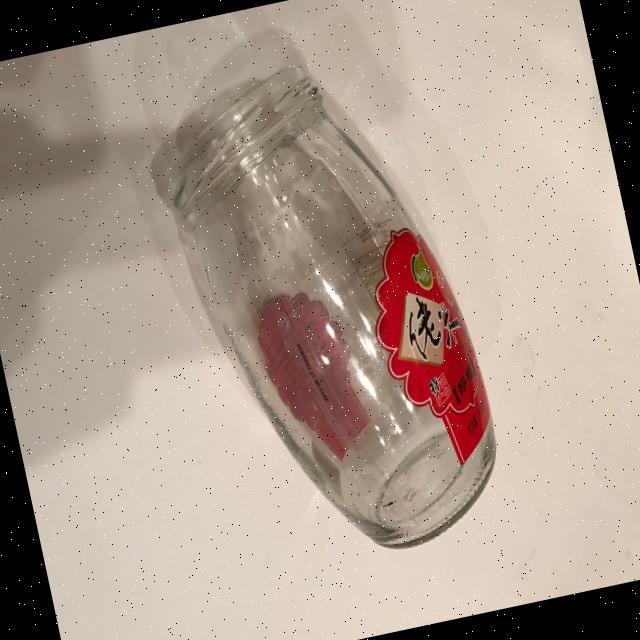glass: (133, 36, 516, 584)
